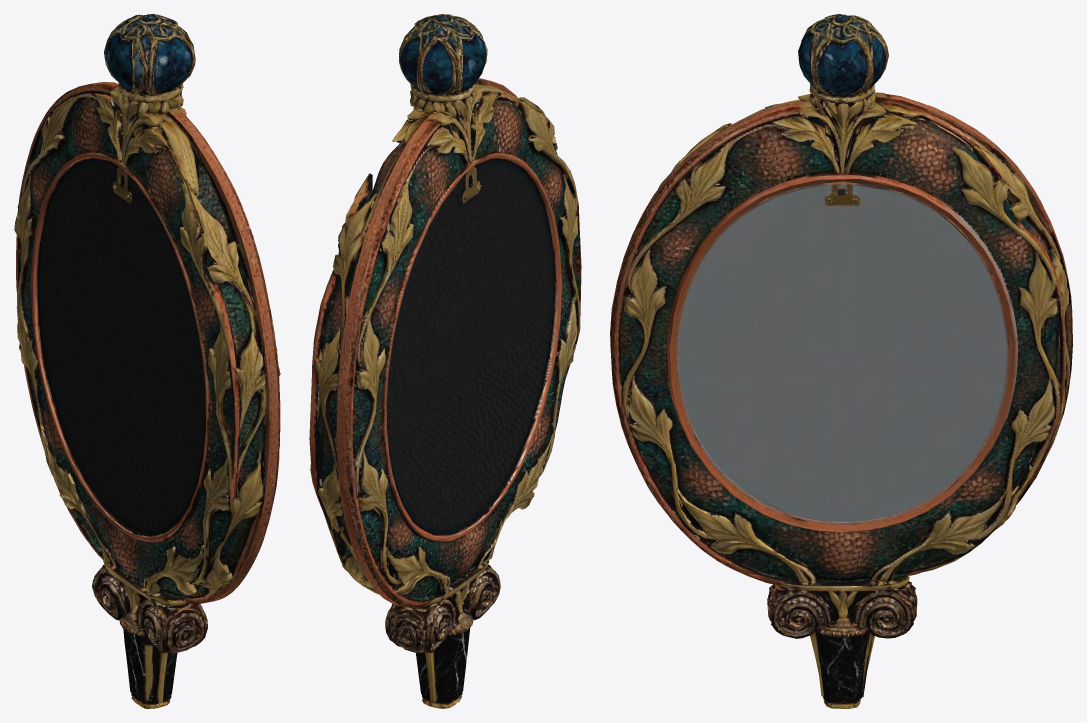
File: HY-06_wall_mirror_game.glb
3 views of the same model, side by side, from view 1: azimuth 30°, elevation 25°; view 2: azimuth 150°, elevation 25°; view 3: azimuth 270°, elevation 25° (orthographic).
Parts seen in each view (by area): view 1: HY-06_wall_mirror; view 2: HY-06_wall_mirror; view 3: HY-06_wall_mirror.
Boxes of the visible parts, x1,y1,x2,y2 form: HY-06_wall_mirror: (14, 14, 280, 708); HY-06_wall_mirror: (309, 14, 581, 708); HY-06_wall_mirror: (610, 14, 1072, 708).
Bounding box in the file's own units: 0.1242 × 1.1 × 0.6716.
1 material, 1 textured.
